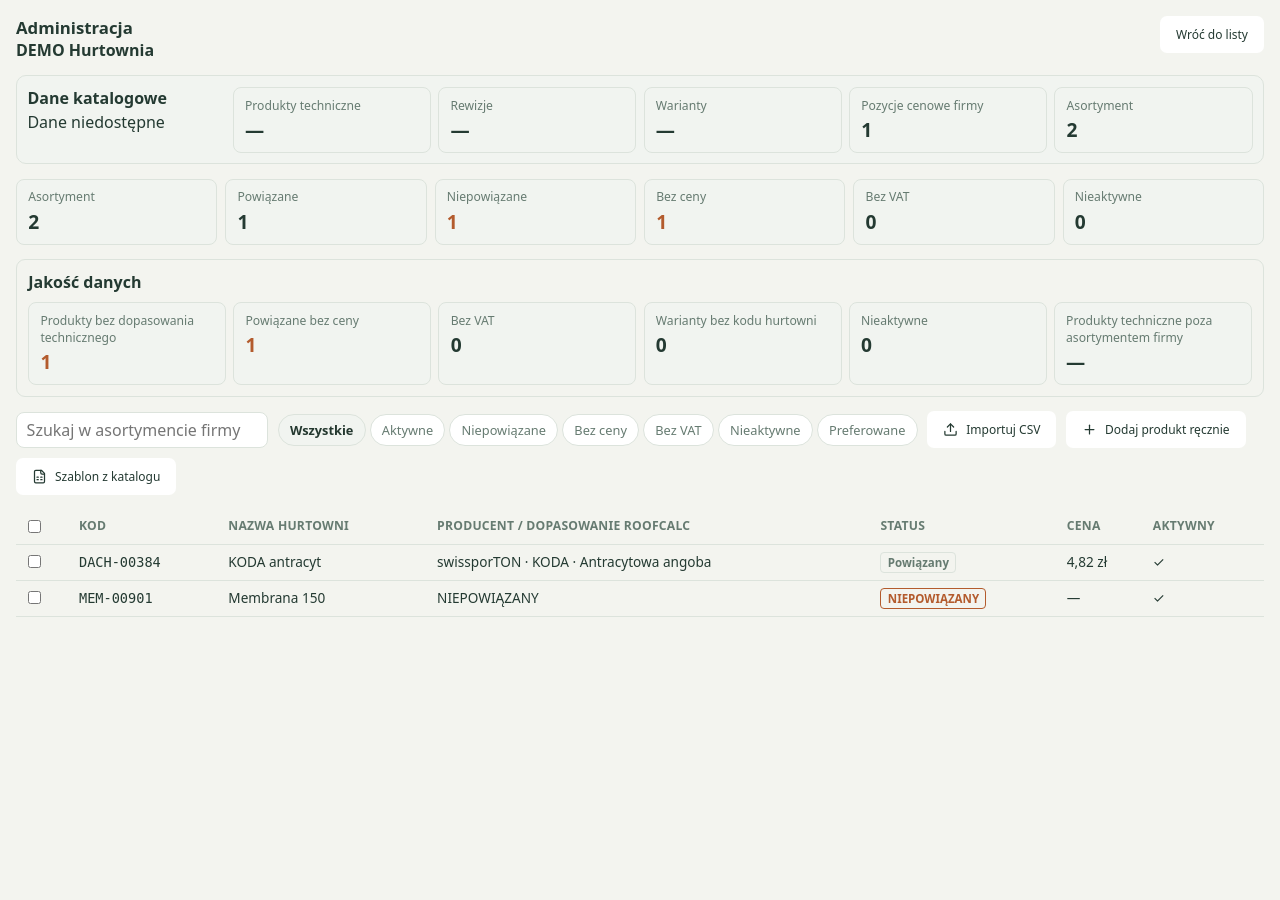
Test: admin assortment › reports the disabled write capability instead of failing silently
The width and height of the screenshot is (1280, 900).
Click the button with test id "admin-row" that starts with "DACH-00384": (640, 562) [16, 544, 1264, 580]
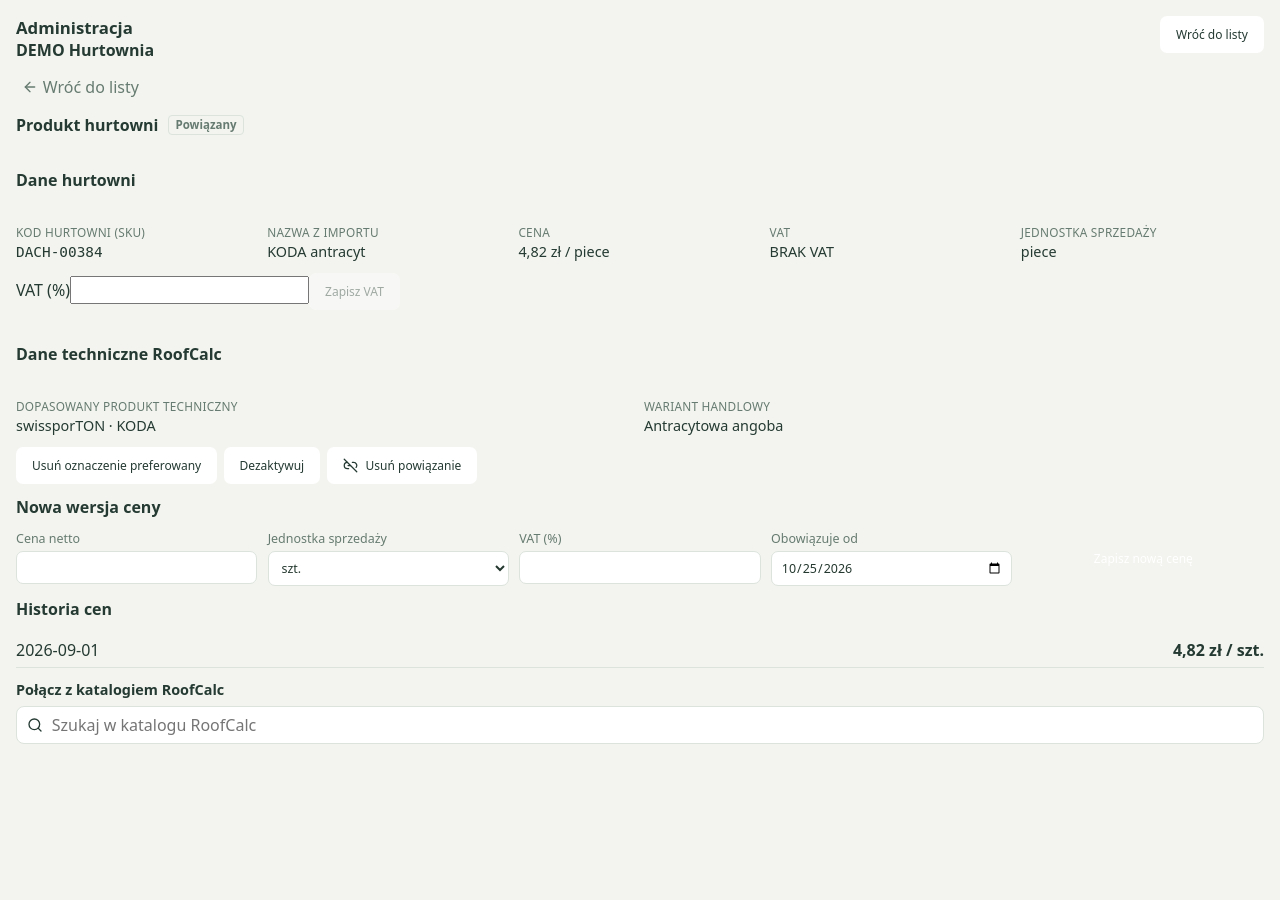
Click the button with test id "detail-unlink": (402, 466) [326, 447, 477, 484]
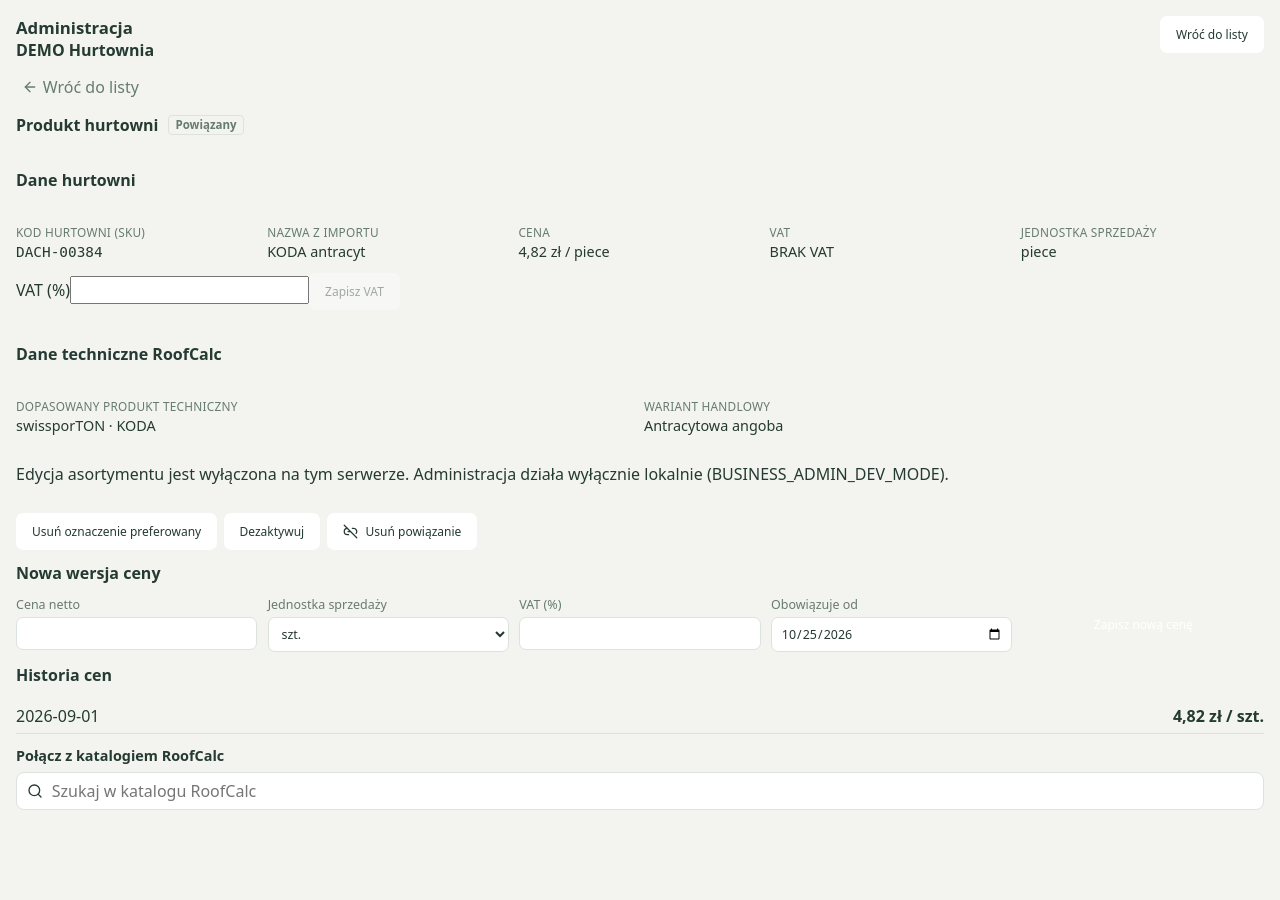
Result: the message shows "BUSINESS_ADMIN_DEV_MODE" at [16, 463, 949, 485]
